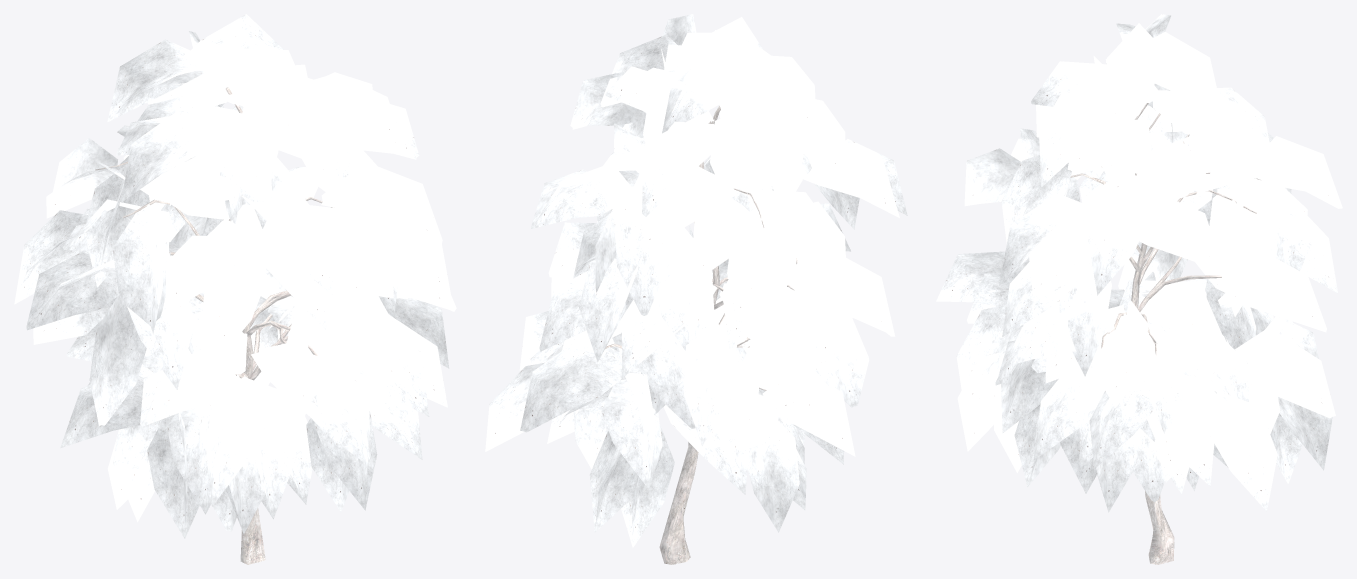
Rendered from SM_Birch.fbx.
3 views of the same model, side by side, from view 1: azimuth 30°, elevation 25°; view 2: azimuth 150°, elevation 25°; view 3: azimuth 270°, elevation 25° (orthographic). The views are drawn at different scales.
Visible parts, largest first — view 1: SM_Birch_LOD0; view 2: SM_Birch_LOD0; view 3: SM_Birch_LOD0.
Boxes of the visible parts, x1=… form: SM_Birch_LOD0: x1=14, y1=14, x2=456, y2=564; SM_Birch_LOD0: x1=485, y1=14, x2=907, y2=564; SM_Birch_LOD0: x1=936, y1=14, x2=1342, y2=564.
Bounding box in the file's own units: 556 × 538 × 741.
